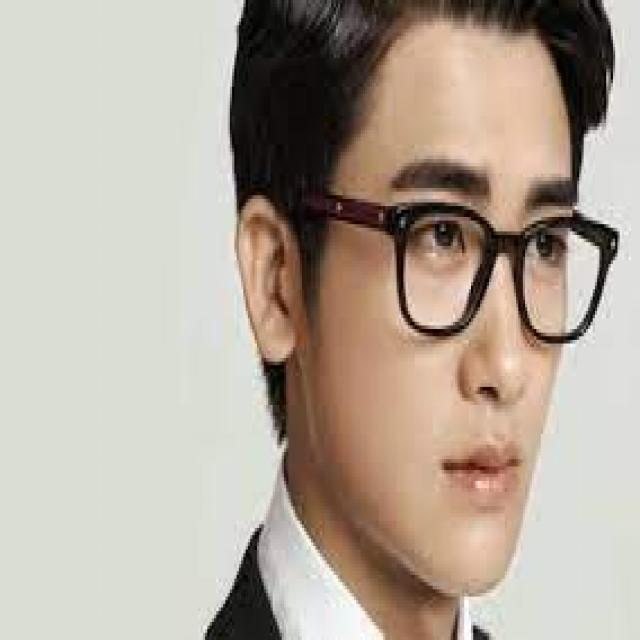Glasses: (314, 171, 622, 351)
